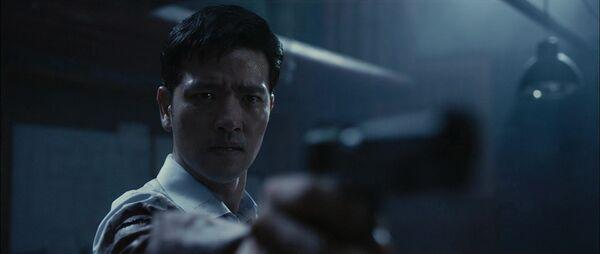Gun: (294, 107, 484, 205)
